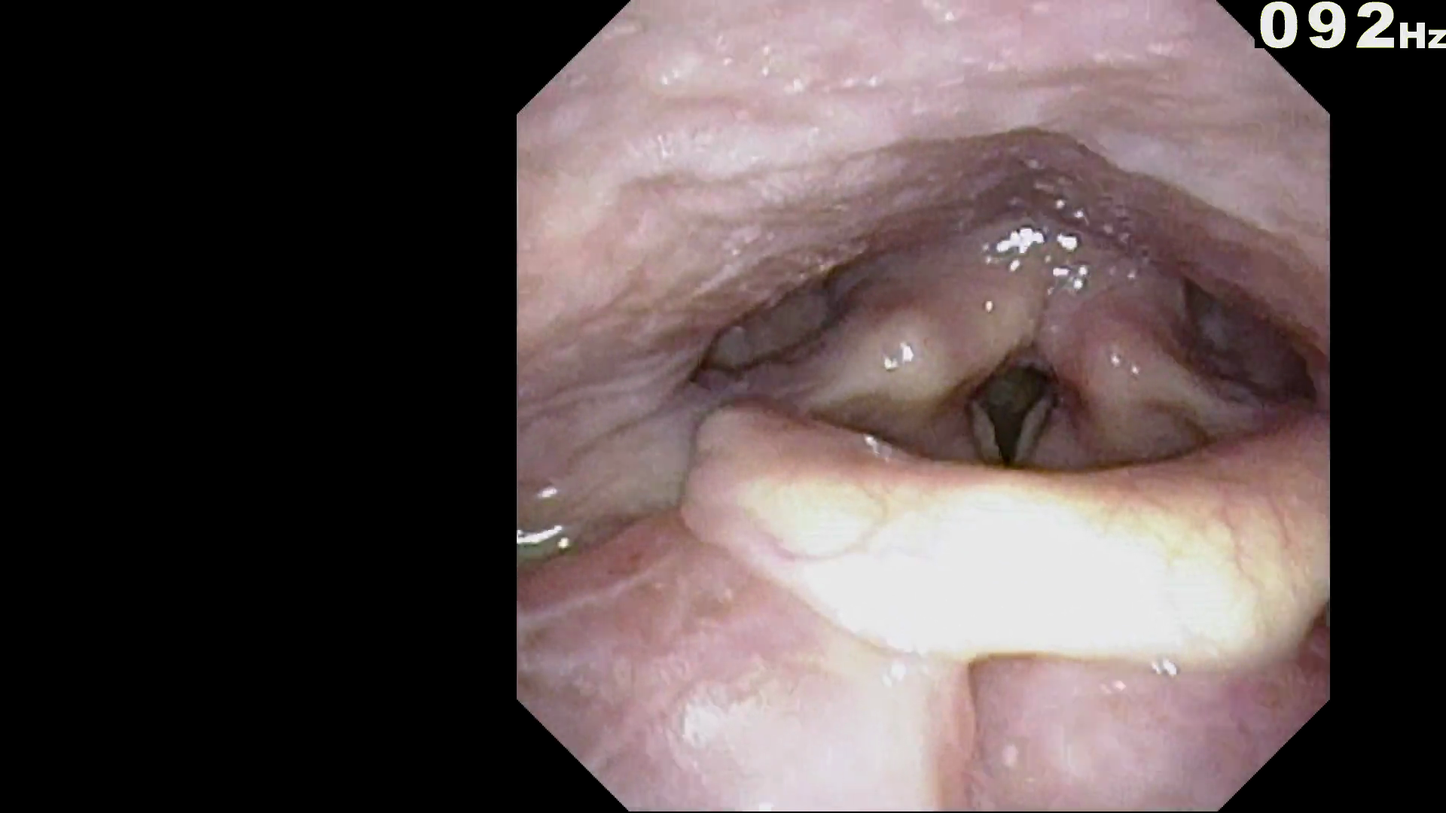epiglottis: (679, 371, 1331, 679)
trachea: (928, 299, 1108, 509)
